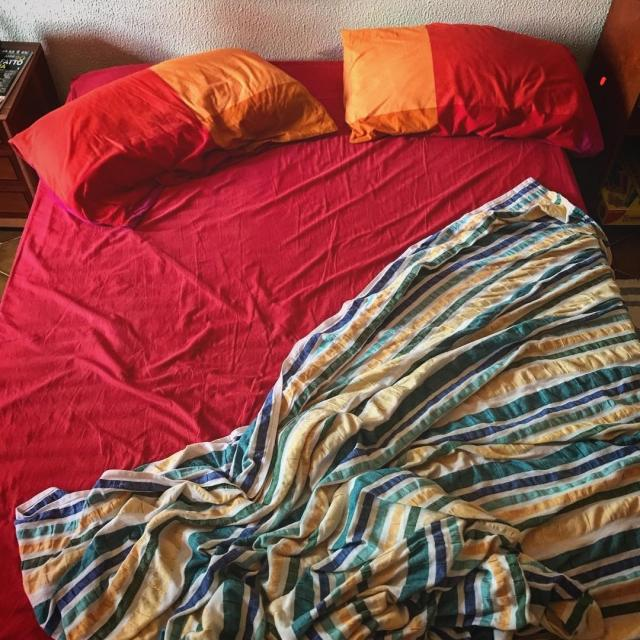bed: (33, 33, 640, 640)
